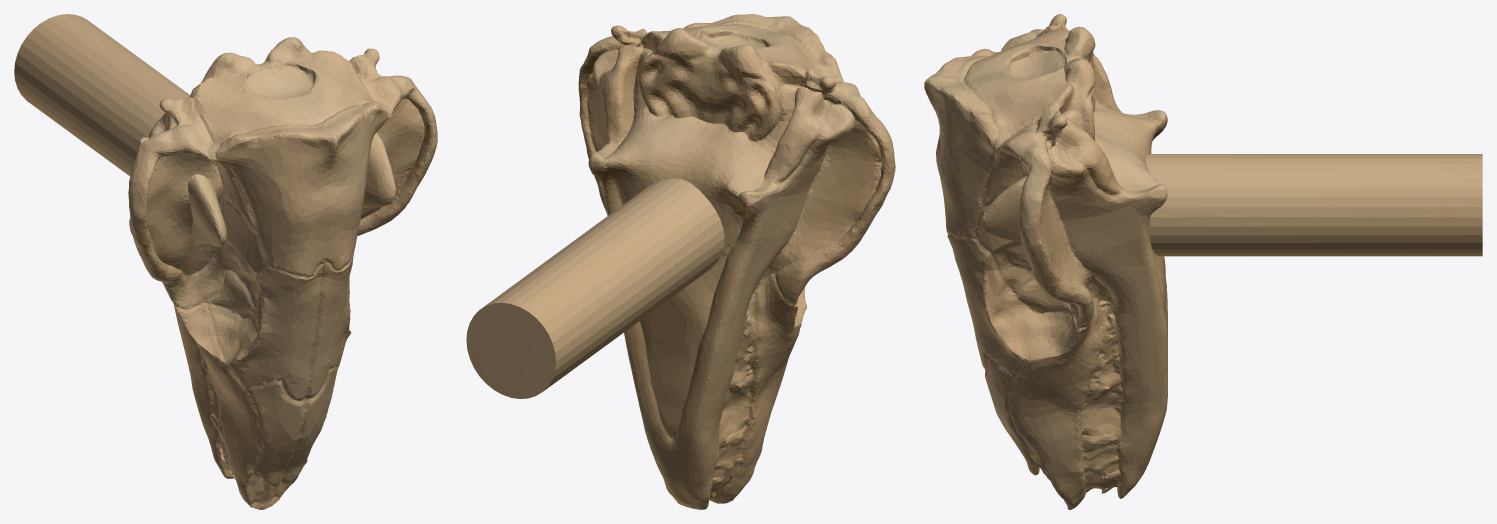
Rendered from morganucodon.glb.
3 views of the same model, side by side, from view 1: azimuth 30°, elevation 25°; view 2: azimuth 150°, elevation 25°; view 3: azimuth 270°, elevation 25° (orthographic). The views are drawn at different scales.
Size of the model in its own units: 5.24 by 7.5 by 8.18.
